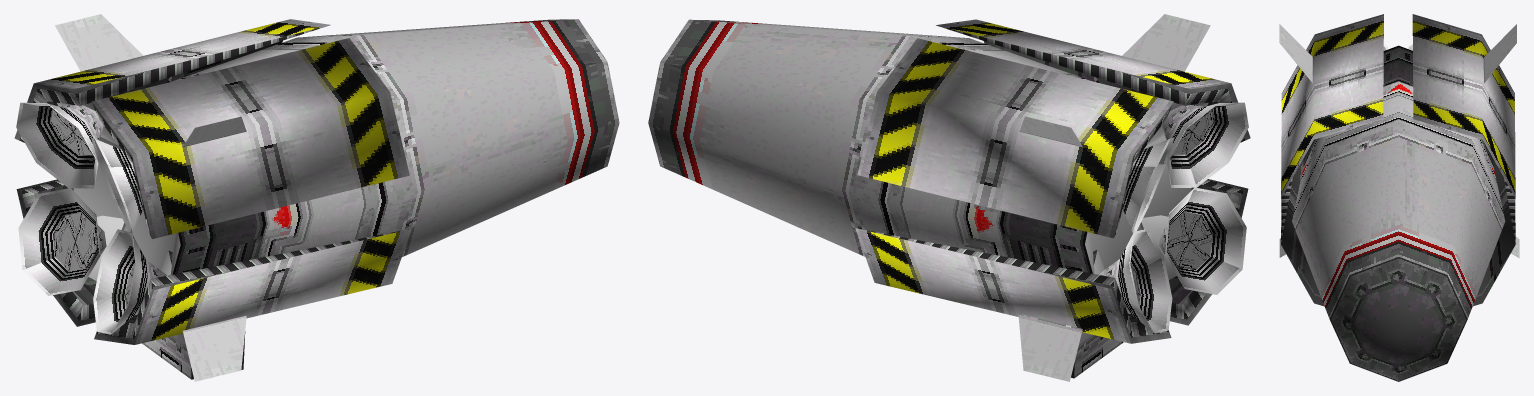
File: RocketWithoutHandle.obj
The picture shows the model from 3 angles, left to right: view 1: azimuth 30°, elevation 25°; view 2: azimuth 150°, elevation 25°; view 3: azimuth 270°, elevation 25°; orthographic projection. The views are drawn at different scales.
Size of the model in its own units: 12.17 by 5.98 by 5.46.
